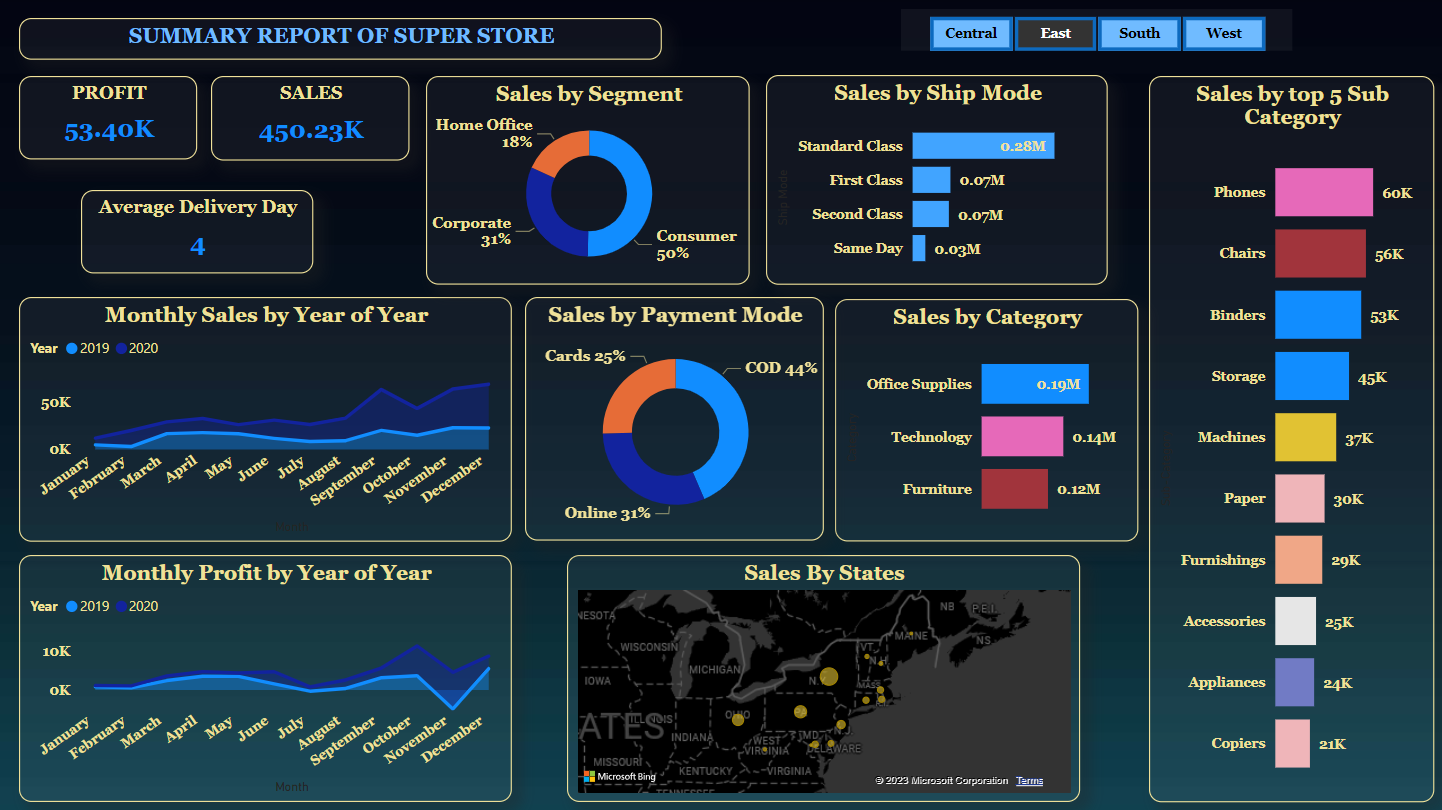

This screenshot's page, from the dashboard's own definition file:
{"tool":"powerbi","page":{"name":"Page 1","canvas":[1280,720],"ordinal":0},"visuals":[{"type":"clusteredBarChart","title":"Sales by Category","fields":{"Category":["SuperStore_Sales_Dataset.Category"],"Y":["Sum(SuperStore_Sales_Dataset.Sales)"]},"box":[740.4,266,268.7,214.6],"z":0},{"type":"clusteredBarChart","title":"Sales by top 5 Sub Category","fields":{"Y":["Sum(SuperStore_Sales_Dataset.Sales)"],"Category":["SuperStore_Sales_Dataset.Sub-Category"]},"box":[1018.8,68.3,252.7,643.7],"z":1000},{"type":"clusteredBarChart","title":"Sales by Ship Mode","fields":{"Y":["Sum(SuperStore_Sales_Dataset.Sales)"],"Category":["SuperStore_Sales_Dataset.Ship Mode"]},"box":[679.2,67.4,303.3,186.2],"z":2000},{"type":"stackedAreaChart","title":"Monthly Sales by Year of Year","fields":{"Y":["Sum(SuperStore_Sales_Dataset.Sales)"],"Series":["SuperStore_Sales_Dataset.Order Date.Variation.Date Hierarchy.Year"],"Category":["SuperStore_Sales_Dataset.Order Date.Variation.Date Hierarchy.Month"]},"box":[16.8,264.2,437.1,217.2],"z":3000},{"type":"stackedAreaChart","title":"Monthly Profit by Year of Year","fields":{"Series":["SuperStore_Sales_Dataset.Order Date.Variation.Date Hierarchy.Year"],"Category":["SuperStore_Sales_Dataset.Order Date.Variation.Date Hierarchy.Month"],"Y":["Sum(SuperStore_Sales_Dataset.Profit)"]},"box":[16.8,493,437.1,219],"z":4000},{"type":"map","title":"Sales By States","fields":{"Category":["SuperStore_Sales_Dataset.State"],"Size":["Sum(SuperStore_Sales_Dataset.Sales)"]},"box":[502.8,493,454.9,219],"z":5000},{"type":"donutChart","title":"Sales by Segment","fields":{"Category":["SuperStore_Sales_Dataset.Segment"],"Y":["Sum(SuperStore_Sales_Dataset.Sales)"]},"box":[377.7,68.3,287.3,185.3],"z":6000},{"type":"donutChart","title":"Sales by Payment Mode","fields":{"Y":["Sum(SuperStore_Sales_Dataset.Sales)"],"Category":["SuperStore_Sales_Dataset.Payment Mode"]},"box":[465.5,264.2,265.1,216.4],"z":7000},{"type":"slicer","fields":{"Values":["SuperStore_Sales_Dataset.Region"]},"box":[798.9,8.9,346.7,37.2],"z":8000},{"type":"textbox","title":"SUMMARY REPORT OF SUPER STORE","box":[16.8,16.8,570.1,37.2],"z":9000},{"type":"card","title":"PROFIT","fields":{"Values":["Sum(SuperStore_Sales_Dataset.Profit)"]},"box":[16.8,68.3,157.8,73.6],"z":10000},{"type":"card","title":"SALES","fields":{"Values":["Sum(SuperStore_Sales_Dataset.Sales)"]},"box":[187.1,68.3,175.6,75.4],"z":11000},{"type":"card","title":"Average Delivery Day","fields":{"Values":["Avg(SuperStore_Sales_Dataset.AvgDelivery)"]},"box":[71.8,169.4,205.7,73.6],"z":12000}]}

Visuals, with their boxes in screenshot pixels (x1, y1, x2, y2), scaled from the page's 1280x720 canvas onto the 1442x810 screenshot:
"Sales by Category" clusteredBarChart: Rect(834, 299, 1137, 541)
"Sales by top 5 Sub Category" clusteredBarChart: Rect(1148, 77, 1432, 801)
"Sales by Ship Mode" clusteredBarChart: Rect(765, 76, 1107, 285)
"Monthly Sales by Year of Year" stackedAreaChart: Rect(19, 297, 511, 542)
"Monthly Profit by Year of Year" stackedAreaChart: Rect(19, 555, 511, 801)
"Sales By States" map: Rect(566, 555, 1079, 801)
"Sales by Segment" donutChart: Rect(426, 77, 749, 285)
"Sales by Payment Mode" donutChart: Rect(524, 297, 823, 541)
slicer - SuperStore_Sales_Dataset.Region: Rect(900, 10, 1291, 52)
"SUMMARY REPORT OF SUPER STORE" textbox: Rect(19, 19, 661, 61)
"PROFIT" card: Rect(19, 77, 197, 160)
"SALES" card: Rect(211, 77, 409, 162)
"Average Delivery Day" card: Rect(81, 191, 313, 273)
